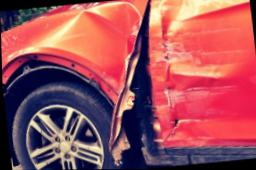Door: (112, 0, 247, 167)
Fender: (28, 0, 147, 94)
